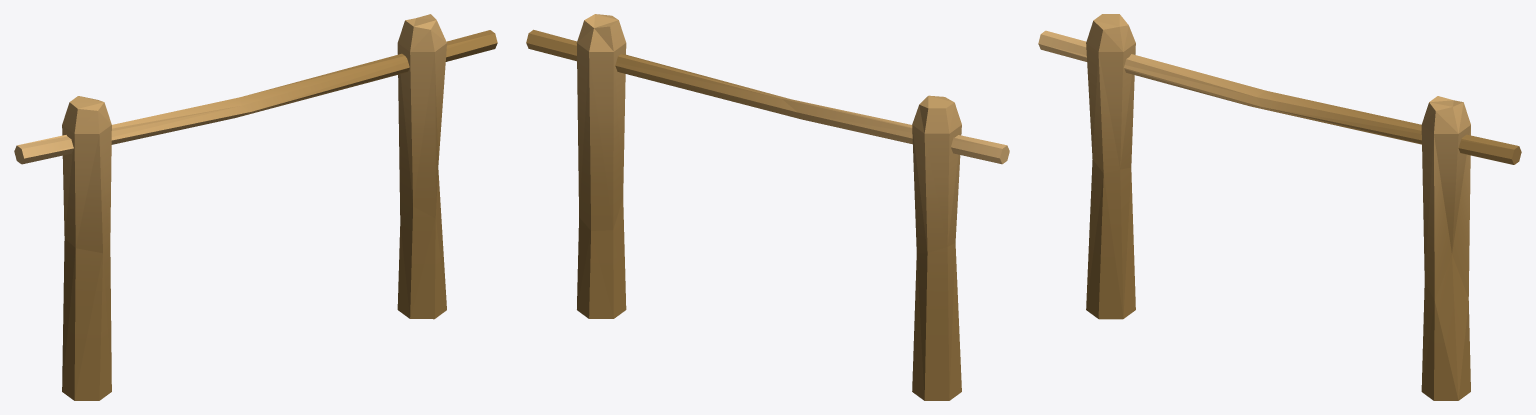
Rendered from HangingRod.fbx.
The picture shows the model from 3 angles, left to right: view 1: azimuth 30°, elevation 25°; view 2: azimuth 150°, elevation 25°; view 3: azimuth 330°, elevation 25°; orthographic projection.
Visible parts, largest first — view 1: HangingRod; view 2: HangingRod; view 3: HangingRod.
Boxes of the visible parts, bbox=[...] form: HangingRod: bbox=[14, 14, 497, 400]; HangingRod: bbox=[526, 14, 1009, 400]; HangingRod: bbox=[1038, 14, 1521, 400].
Bounding box in the file's own units: 2.05 × 1.2 × 0.1867.
Materials: 1 (1 with a texture image).
